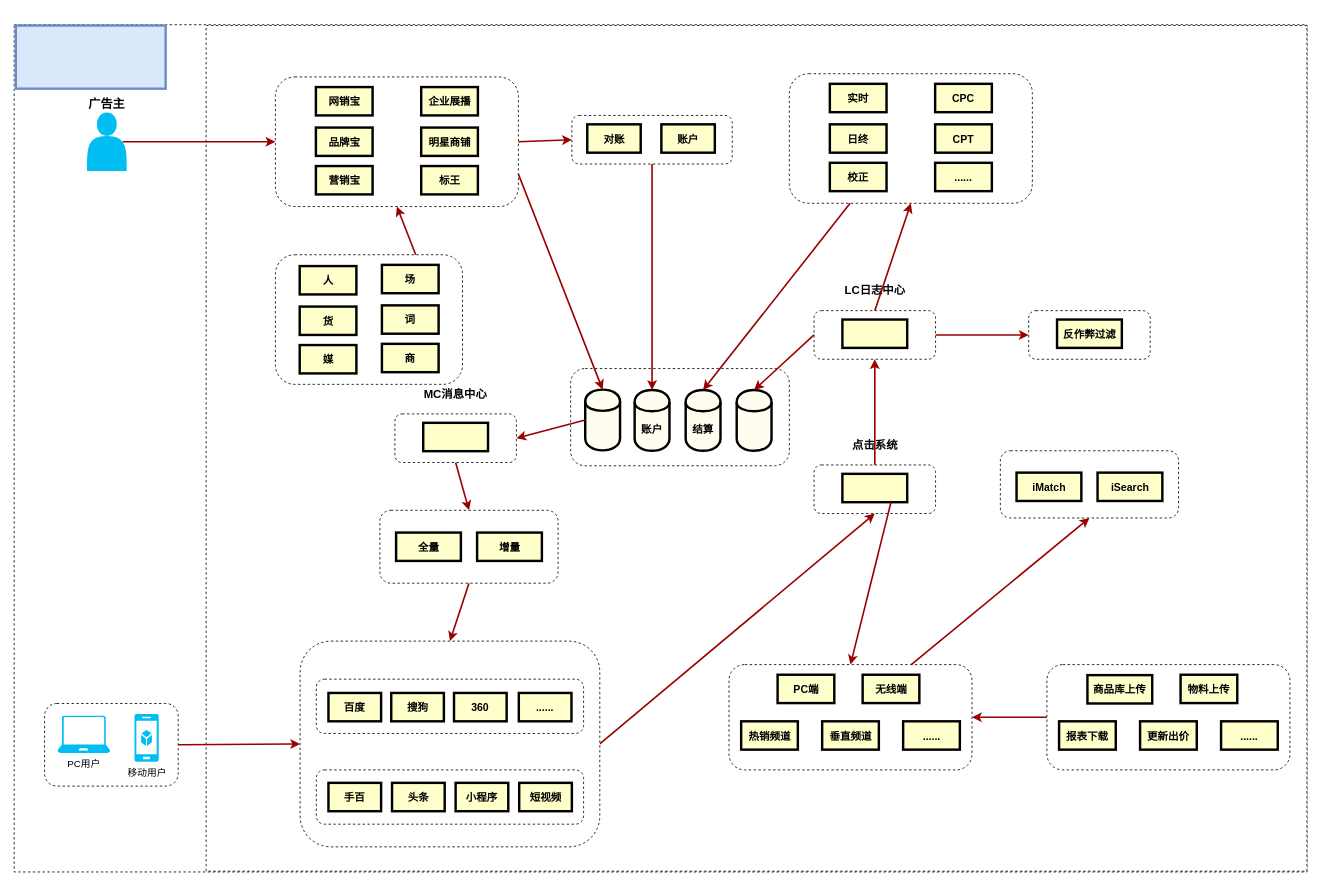
Some shapes in this 1321 by 886 pixel diagram are drawn without their labels. Each missing label, with the box of its shape:
302 重定向: (841, 472, 908, 503)
B-DMP: (275, 254, 463, 384)
DB: (570, 368, 789, 466)
FC账户中心: (571, 115, 732, 164)
offer对接: (379, 509, 558, 583)
SC结算中心: (789, 73, 1032, 203)
SEM外投系统 全链路架构图: (14, 24, 166, 90)
SEM平台: (1046, 664, 1290, 770)
信息流: (315, 769, 584, 824)
反作弊系统: (1028, 310, 1150, 359)
广告: (584, 388, 621, 451)
广告业务平台BP: (275, 76, 518, 207)
广告引擎: (1000, 450, 1179, 518)
承接系统: (728, 664, 972, 770)
搜索引擎: (315, 678, 584, 733)
日志: (735, 388, 772, 452)
日志服务: (841, 318, 908, 349)
流量联盟: (299, 640, 600, 847)
消息转换: (422, 421, 489, 452)
线上买家: (44, 703, 178, 786)
